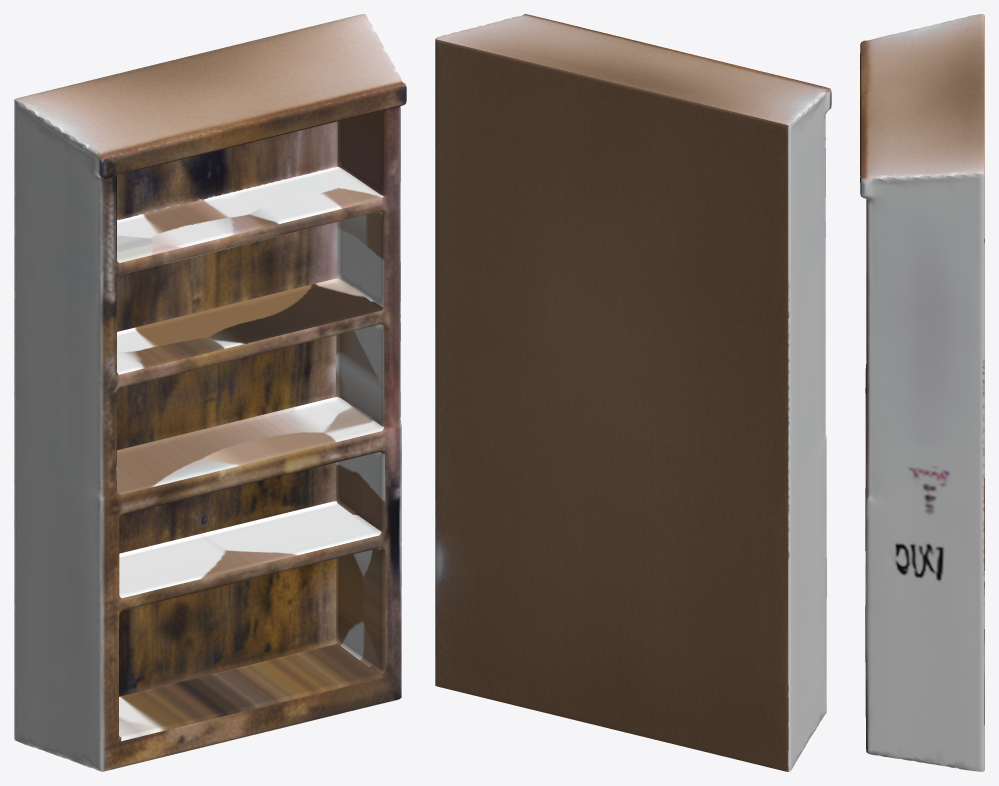
File: shelf__shelf#4.glb
The picture shows the model from 3 angles, left to right: view 1: azimuth 30°, elevation 25°; view 2: azimuth 150°, elevation 25°; view 3: azimuth 270°, elevation 25°; orthographic projection. The views are drawn at different scales.
Parts seen in each view (by area): view 1: tmp1vi03c6p.ply; view 2: tmp1vi03c6p.ply; view 3: tmp1vi03c6p.ply.
Boxes of the visible parts, x1=… form: tmp1vi03c6p.ply: x1=14, y1=14, x2=406, y2=771; tmp1vi03c6p.ply: x1=435, y1=14, x2=831, y2=771; tmp1vi03c6p.ply: x1=860, y1=14, x2=984, y2=771.
Size of the model in its own units: 1.14 by 1.99 by 0.3749.
1 material, 1 textured.
